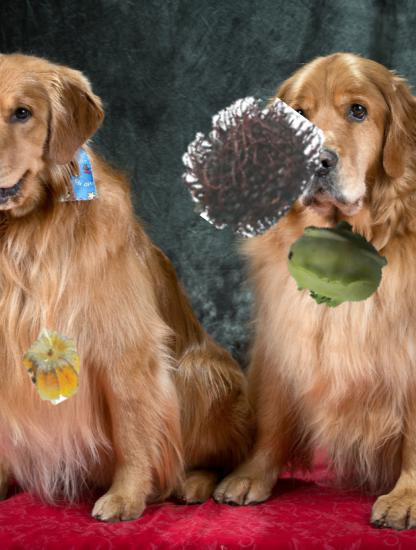Kohlrabi: (286, 214, 387, 315)
Physalis: (17, 325, 94, 402)
Rambutan: (178, 93, 319, 234)
